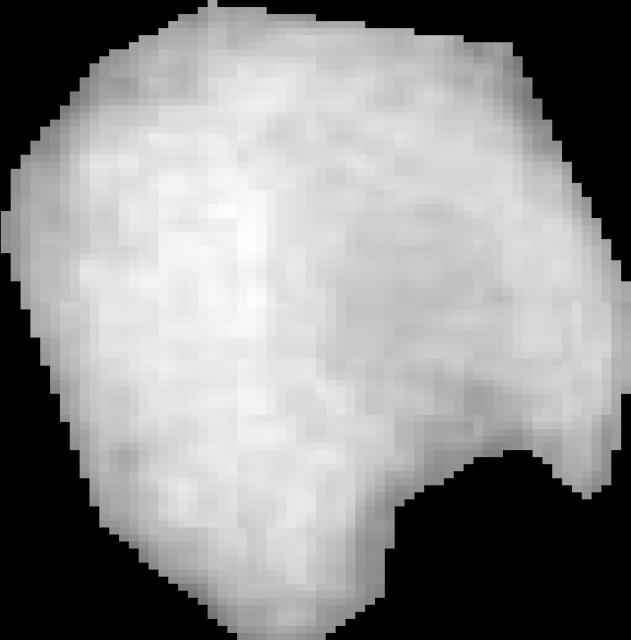tumor_good_chance: (1, 0, 631, 640)
